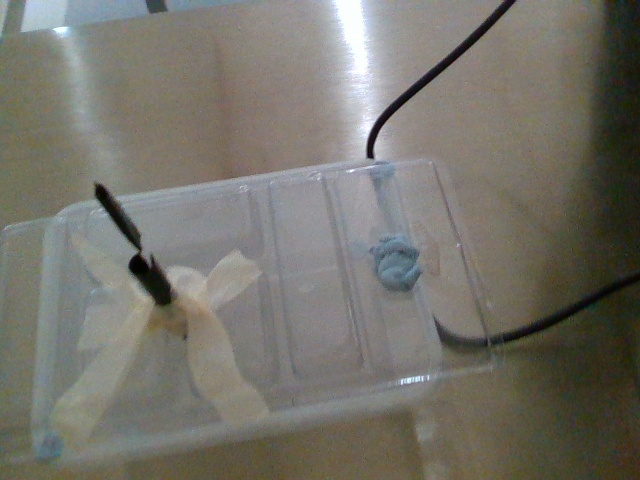test_strip: (90, 177, 151, 263)
